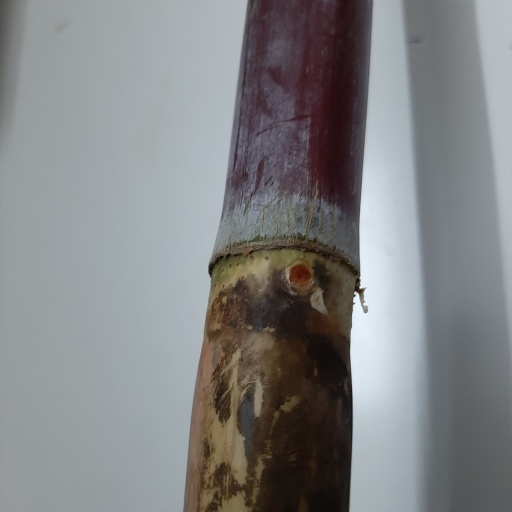Damage_Bud: (284, 260, 313, 294)
